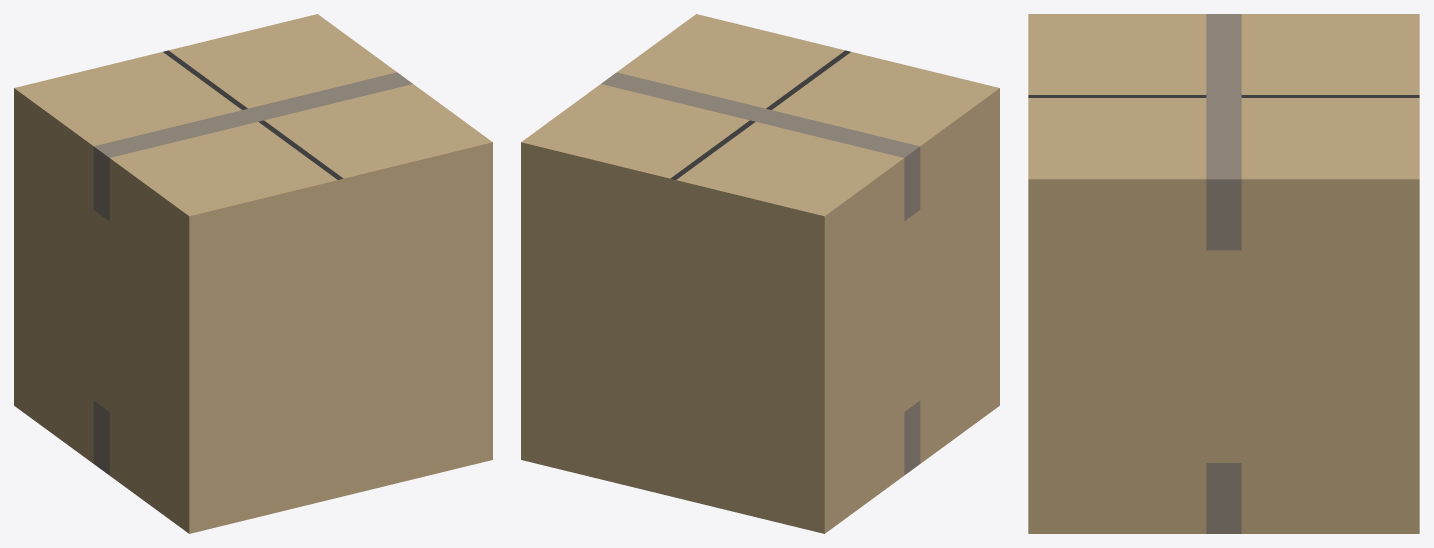
3 views of the same model, side by side, from view 1: azimuth 30°, elevation 25°; view 2: azimuth 150°, elevation 25°; view 3: azimuth 270°, elevation 25° (orthographic). The views are drawn at different scales.
Parts seen in each view (by area): view 1: StorageBox; view 2: StorageBox; view 3: StorageBox.
Part boxes in pixels (left/top/right/bottom): StorageBox: left=14, top=14, right=492, bottom=533; StorageBox: left=521, top=14, right=999, bottom=533; StorageBox: left=1028, top=14, right=1419, bottom=533.
Size of the model in its own units: 18.4 by 18.4 by 18.4.
